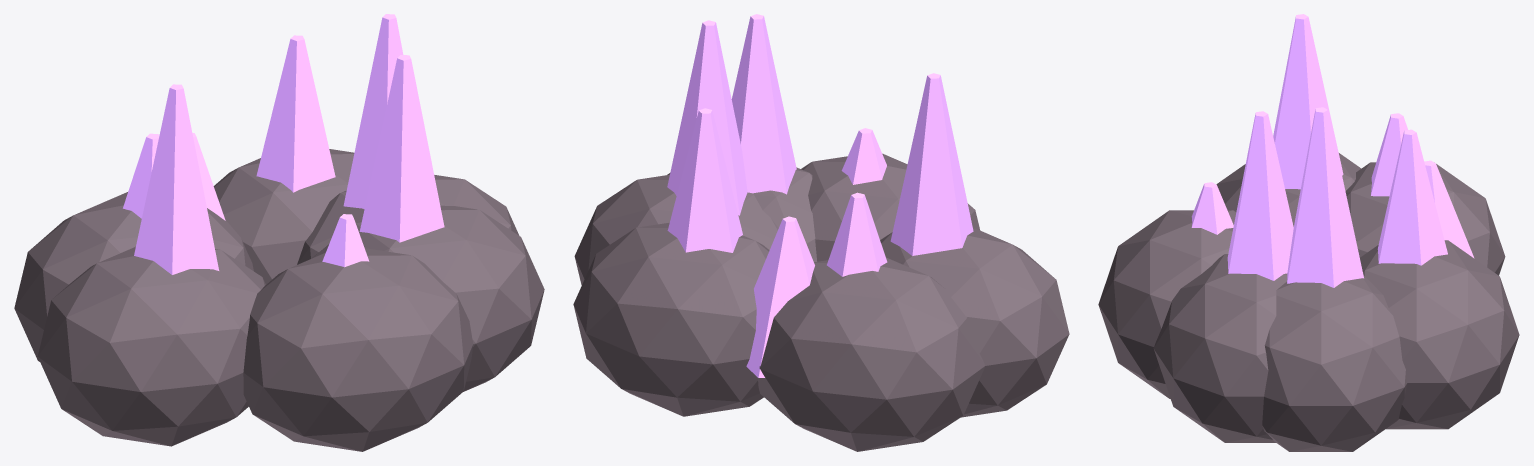
File: ore_crystal.glb
3 renders of one model, left to right at view 1: azimuth 30°, elevation 25°; view 2: azimuth 150°, elevation 25°; view 3: azimuth 270°, elevation 25°, orthographic. The views are drawn at different scales.
Parts seen in each view (by area): view 1: Basalt cluster, Mineral crystal; view 2: Basalt cluster, Mineral crystal; view 3: Basalt cluster, Mineral crystal.
Part boxes in pixels (x1,y1,x2,y2): Basalt cluster: (14, 149, 544, 451); Mineral crystal: (123, 14, 444, 274); Basalt cluster: (573, 153, 1069, 451); Mineral crystal: (667, 14, 973, 377); Basalt cluster: (1098, 153, 1519, 451); Mineral crystal: (1191, 14, 1474, 287).
Bounding box in the file's own units: 2.92 × 2.09 × 2.45.
